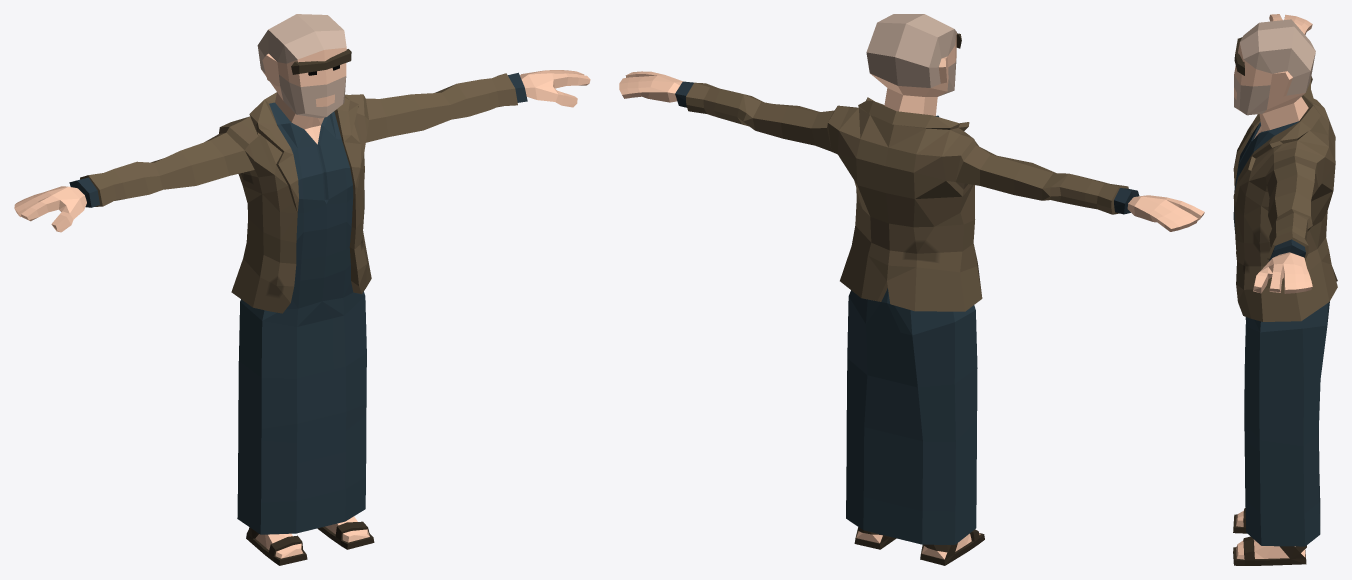
Rendered from SM_Chr_Civilian_Male_02.fbx.
3 views of the same model, side by side, from view 1: azimuth 30°, elevation 25°; view 2: azimuth 150°, elevation 25°; view 3: azimuth 270°, elevation 25° (orthographic). The views are drawn at different scales.
Visible parts, largest first — view 1: SM_Chr_Civilian_Male_02; view 2: SM_Chr_Civilian_Male_02; view 3: SM_Chr_Civilian_Male_02.
Boxes of the visible parts, x1,y1,x2,y2 form: SM_Chr_Civilian_Male_02: (14, 14, 590, 565); SM_Chr_Civilian_Male_02: (619, 14, 1204, 565); SM_Chr_Civilian_Male_02: (1233, 14, 1337, 565).
Size of the model in its own units: 205 by 179 by 32.95.
